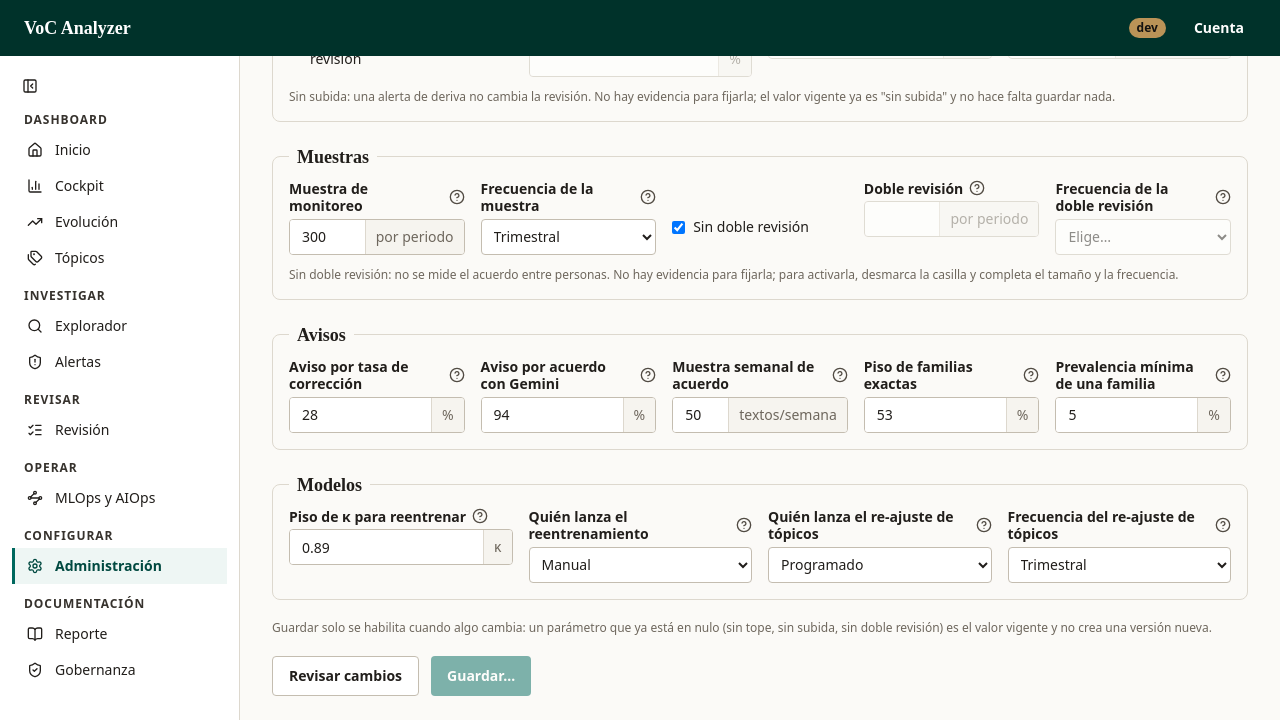
Scenario: administración: apetito de riesgo › el disparo automático muestra la advertencia de Kaggle
The image size is (1280, 720).
(page scrolled)
Select "Automático" in the dropdown labelled "Quién lanza el reentrenamiento": [640, 564] box [528,546,752,582]
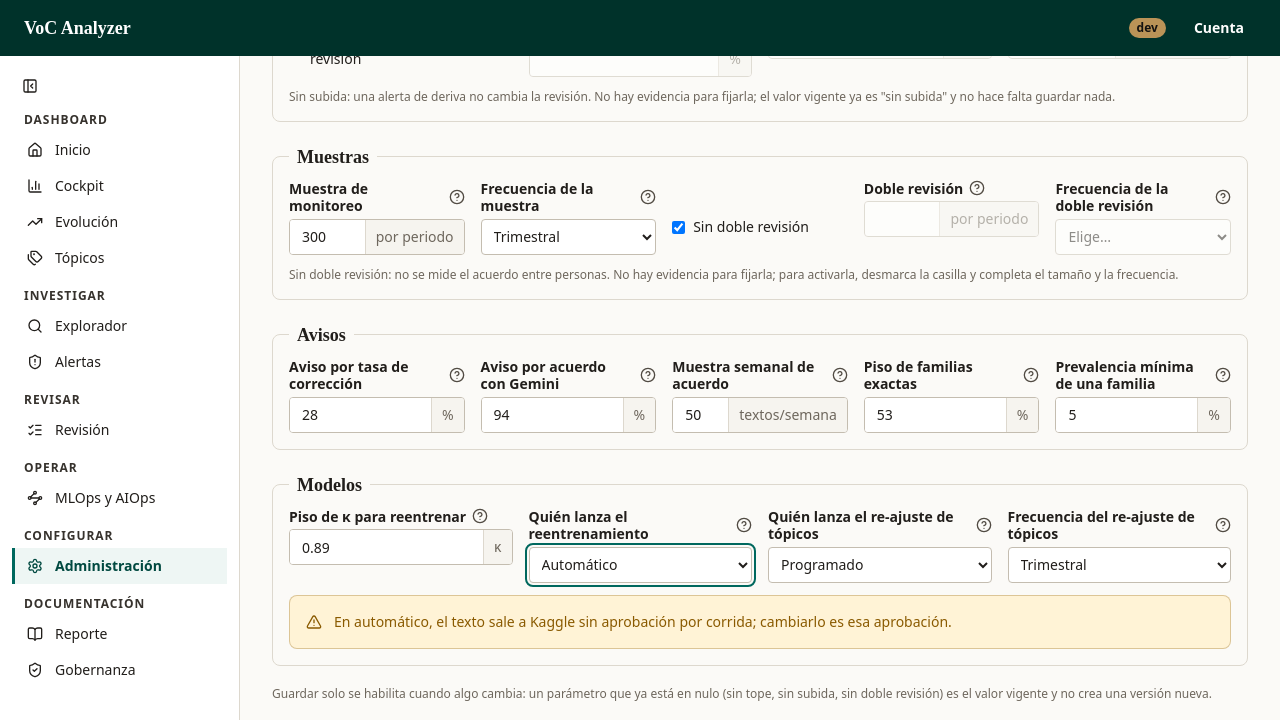
expect the text "el texto sale a Kaggle sin aprobación por corrida" is shown: met, box [334,612,952,630]
